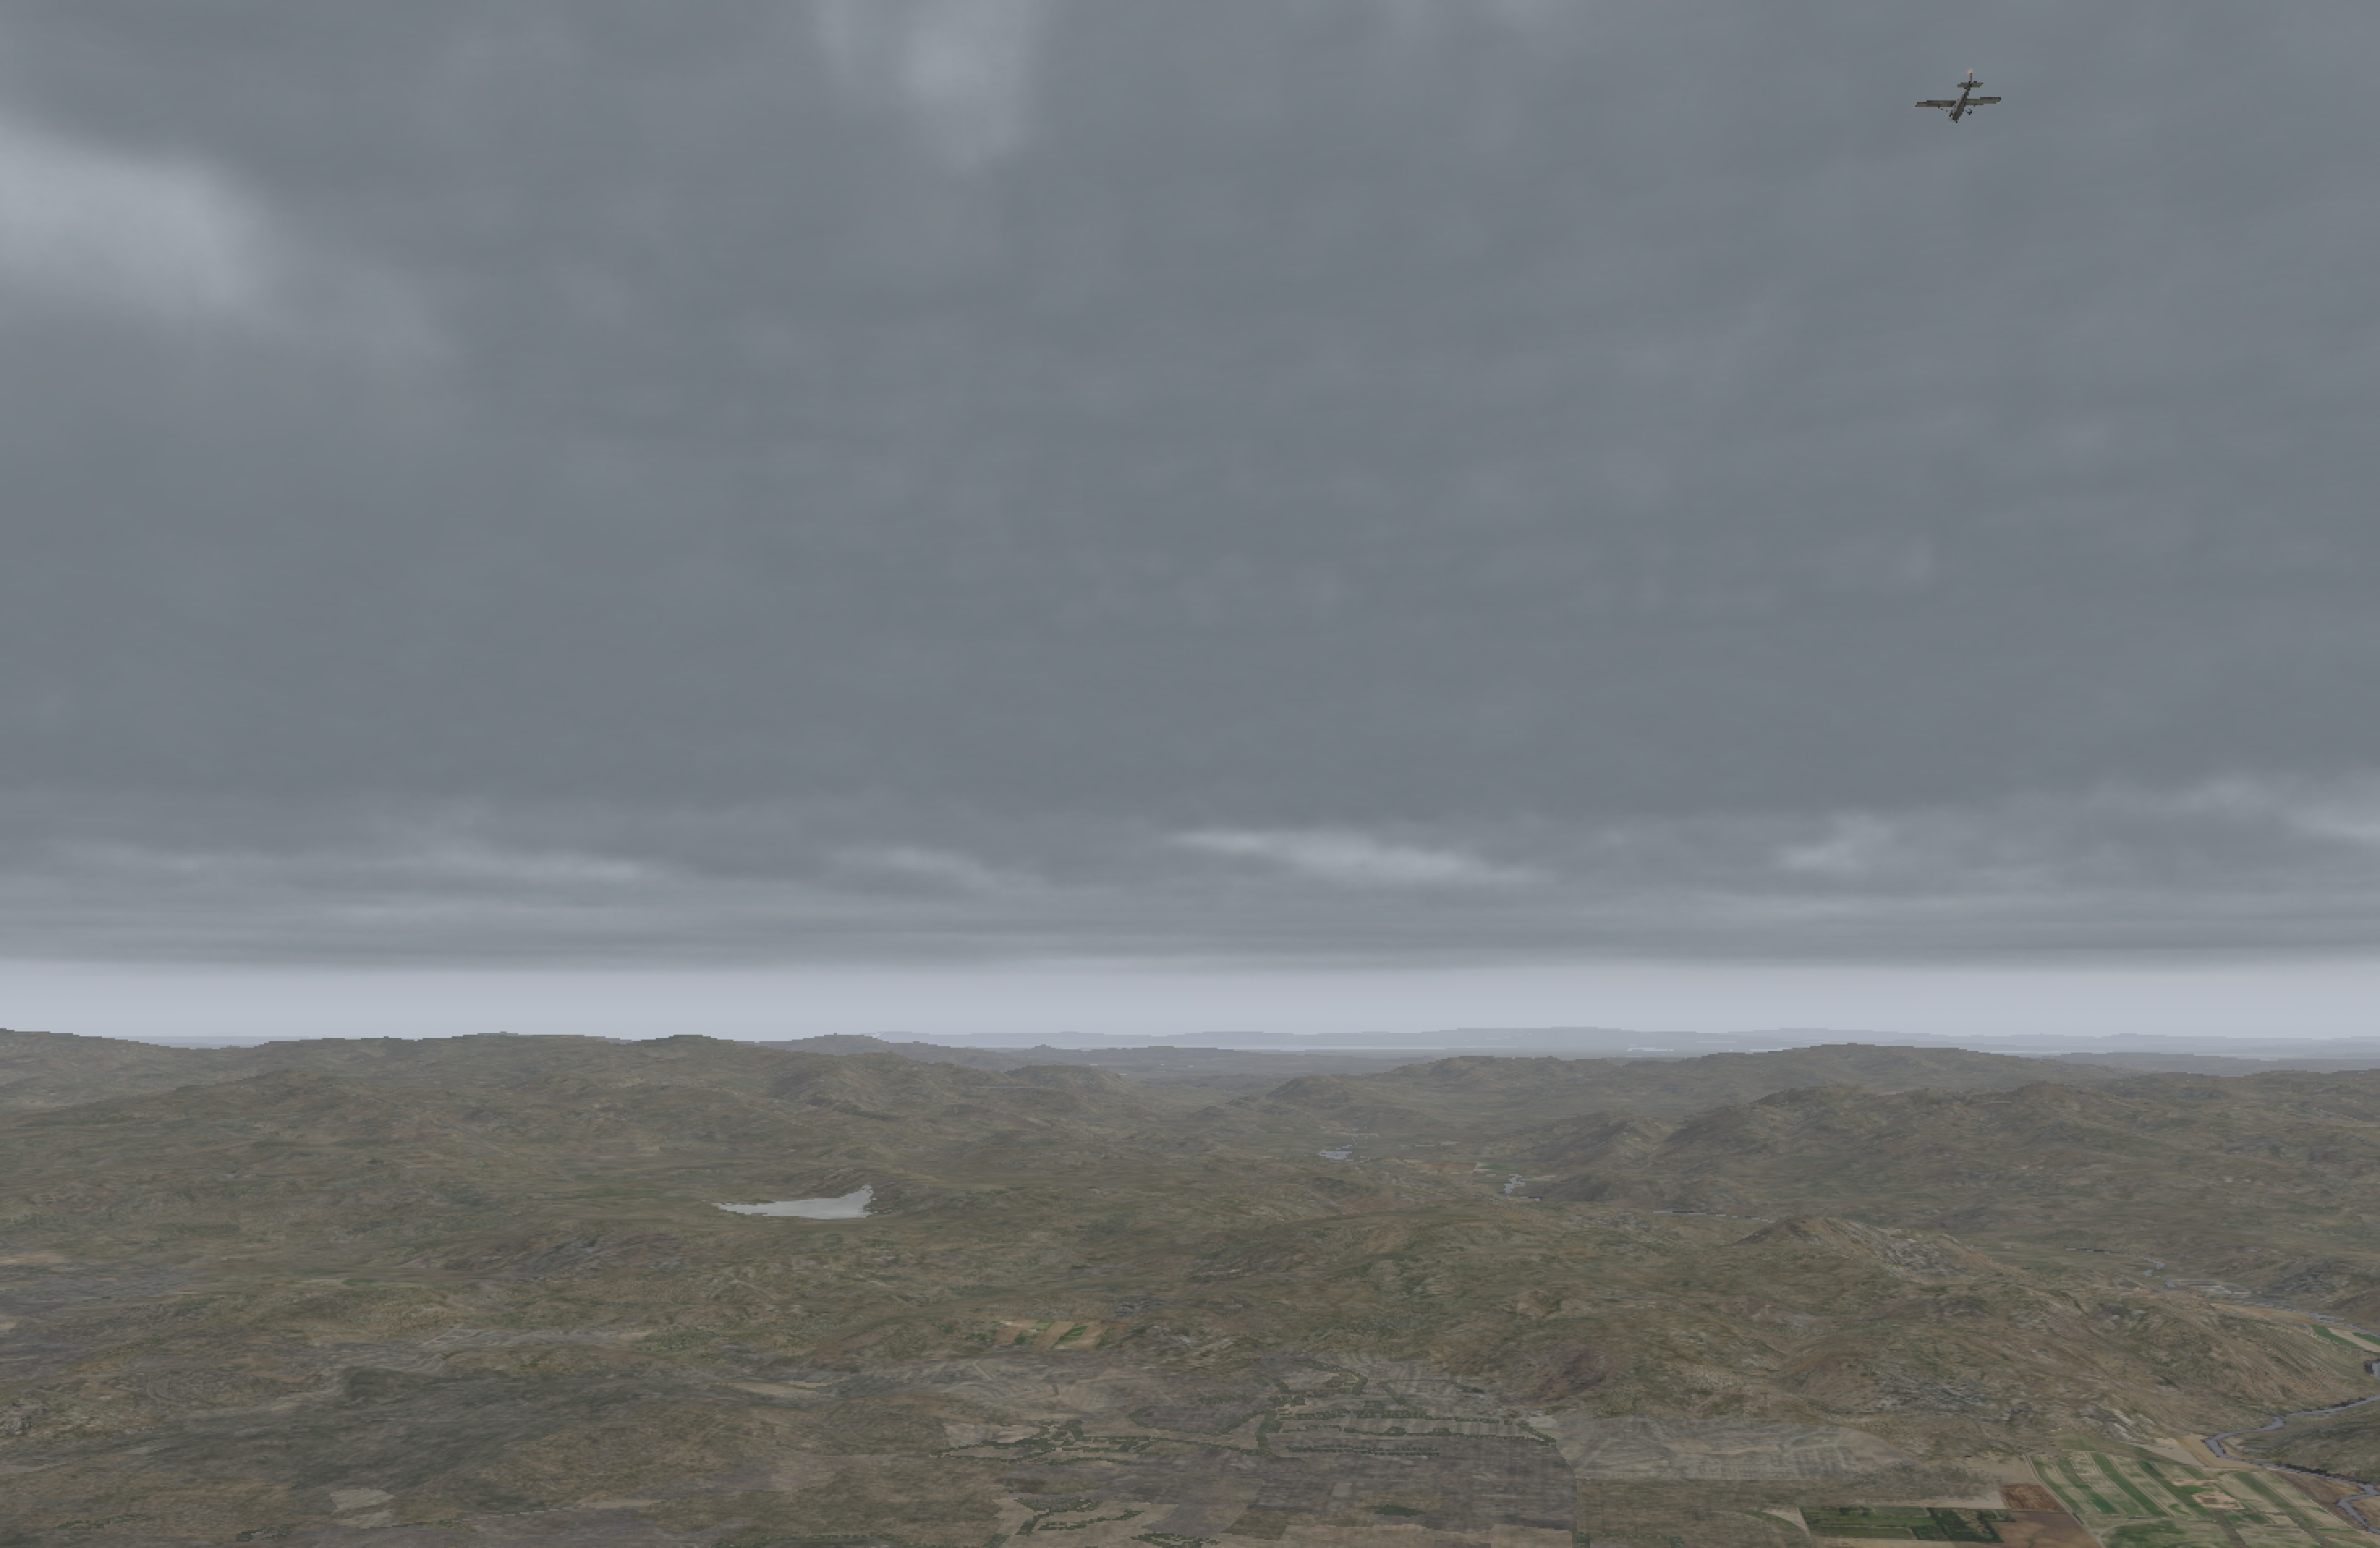aircraft: (1931, 97, 1984, 118)
